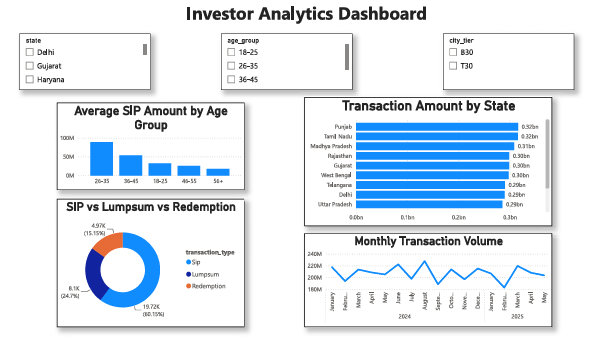

The dashboard page shown, as its layout file describes it:
{"tool":"powerbi","page":{"name":"Investor Analytics","canvas":[1280,720],"ordinal":2},"visuals":[{"type":"donutChart","title":"SIP vs Lumpsum vs Redemption","fields":{"Category":["clean_transactions.transaction_type"],"Y":["CountNonNull(clean_transactions.transaction_type)"]},"box":[111.7,426.7,400,273.3],"z":0},{"type":"clusteredColumnChart","title":"Average SIP Amount by Age Group","fields":{"Category":["clean_transactions.age_group"],"Y":["Sum(clean_transactions.amount_inr)"]},"box":[111.7,221.7,400,186.7],"z":1000},{"type":"lineChart","title":"Monthly Transaction Volume","fields":{"Y":["Sum(clean_transactions.amount_inr)"],"Category":["clean_transactions.transaction_date.Variation.Date Hierarchy.Year","clean_transactions.transaction_date.Variation.Date Hierarchy.Month"]},"box":[640,500,528.3,200],"z":2000},{"type":"slicer","fields":{"Values":["clean_transactions.state"]},"box":[31.7,75,280,120],"z":3000},{"type":"slicer","fields":{"Values":["clean_transactions.age_group"]},"box":[461.7,75,280,120],"z":4000},{"type":"slicer","fields":{"Values":["clean_transactions.city_tier"]},"box":[935,75,280,120],"z":5000},{"type":"clusteredBarChart","title":"Transaction Amount by State","fields":{"Y":["Sum(clean_transactions.amount_inr)"],"Category":["clean_transactions.state"]},"box":[640,210,528.3,275],"z":6000},{"type":"textbox","box":[10,0,1270,61.7],"z":7000}]}

Visuals, with their boxes in screenshot pixels (x1, y1, x2, y2), scaled from the page's 1280x720 canvas onto the 607x342 screenshot:
"SIP vs Lumpsum vs Redemption" donutChart: [left=53, top=203, right=243, bottom=332]
"Average SIP Amount by Age Group" clusteredColumnChart: [left=53, top=105, right=243, bottom=194]
"Monthly Transaction Volume" lineChart: [left=304, top=238, right=554, bottom=332]
slicer - clean_transactions.state: [left=15, top=36, right=148, bottom=93]
slicer - clean_transactions.age_group: [left=219, top=36, right=352, bottom=93]
slicer - clean_transactions.city_tier: [left=443, top=36, right=576, bottom=93]
"Transaction Amount by State" clusteredBarChart: [left=304, top=100, right=554, bottom=230]
textbox: [left=5, top=0, right=606, bottom=29]
